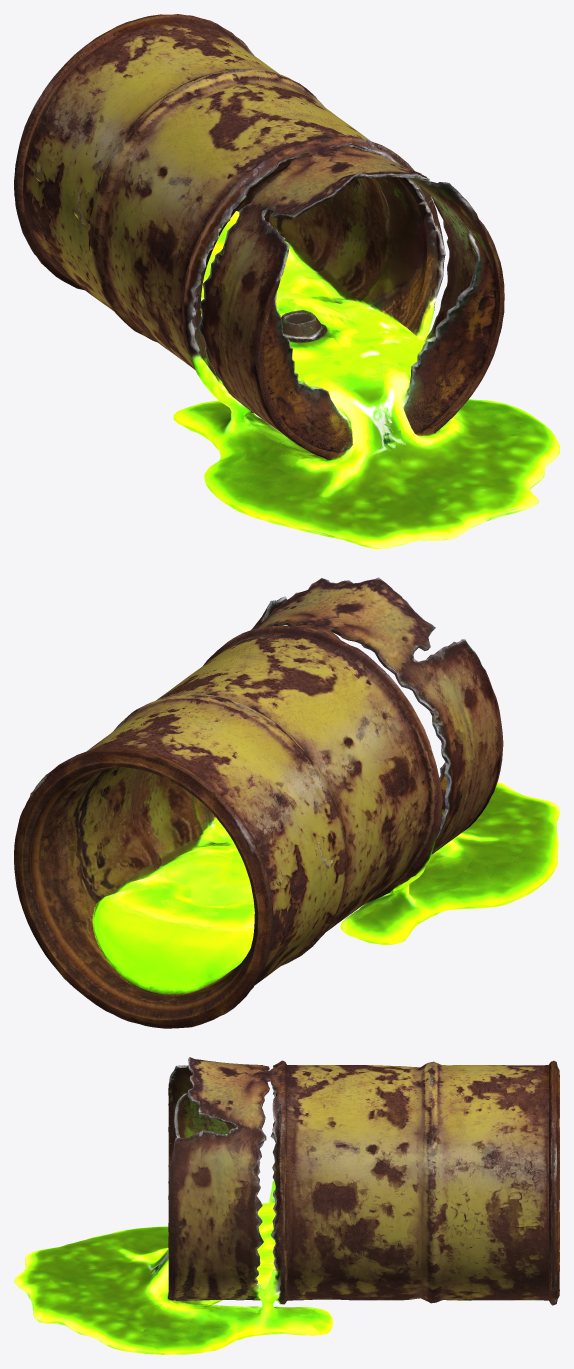
File: rad_barrel.glb
3 renders of one model, top to bottom at view 1: azimuth 30°, elevation 25°; view 2: azimuth 150°, elevation 25°; view 3: azimuth 270°, elevation 25°, orthographic. The views are drawn at different scales.
Parts seen in each view (by area): view 1: mesh_node; view 2: mesh_node; view 3: mesh_node.
Boxes of the visible parts, x1,y1,x2,y2 form: mesh_node: (14,14,559,548); mesh_node: (14,577,559,1028); mesh_node: (14,1057,559,1354).
Bounding box in the file's own units: 1.04 × 0.9003 × 1.9.
1 material, 1 textured.
